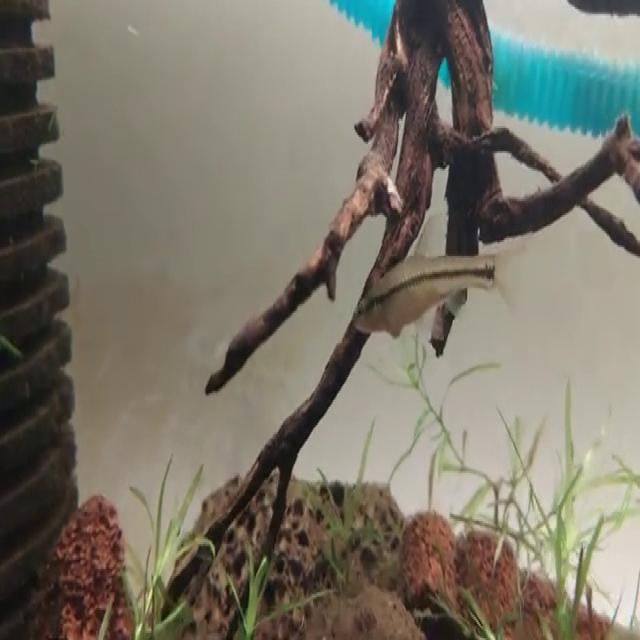Cakil Baligi: (355, 228, 505, 341)
